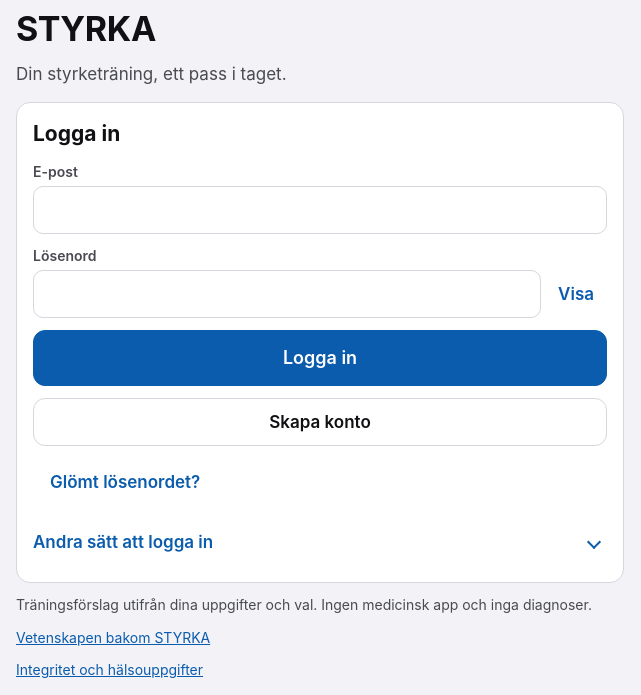
Test: Independent review: expected auth resilience › does not redirect to email confirmation after the user has left signup
This screenshot has width=641, height=695.
Click the button "Skapa konto": (320, 422) [33,398,607,446]
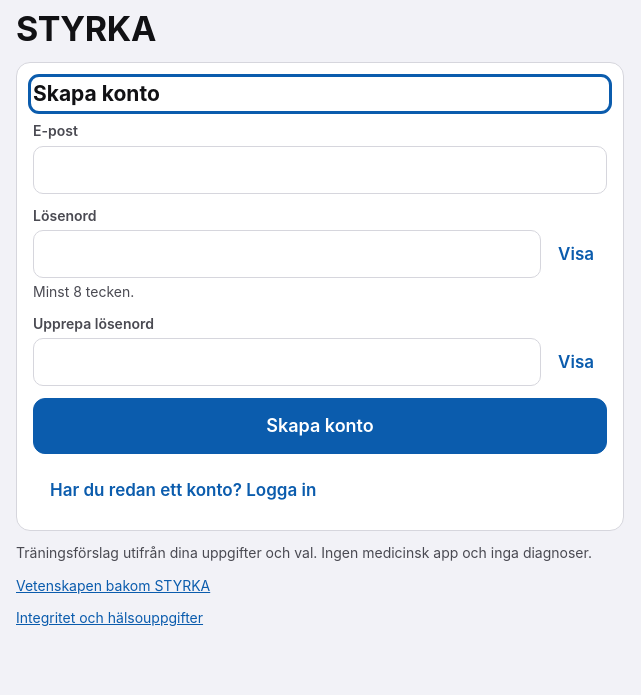
In the field labelled "E-post": (320, 170) [33,146,607,194], type "review@example.test"
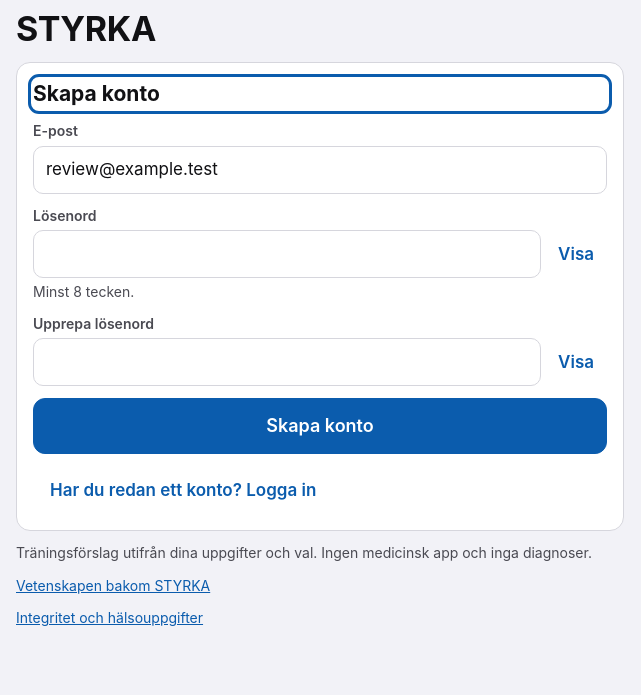
In the password field labelled "Lösenord": (287, 254) [33,230,541,278], type "synthetic-test-only"
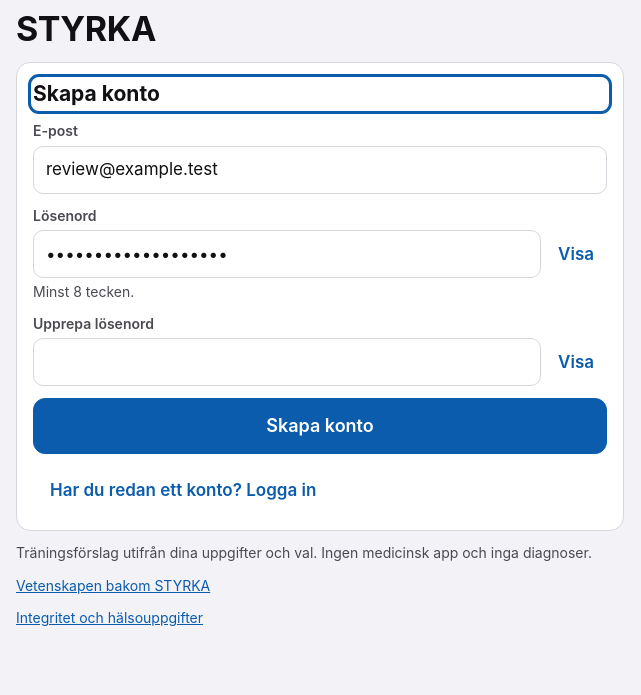
In the password field labelled "Upprepa lösenord": (287, 362) [33,338,541,386], type "synthetic-test-only"
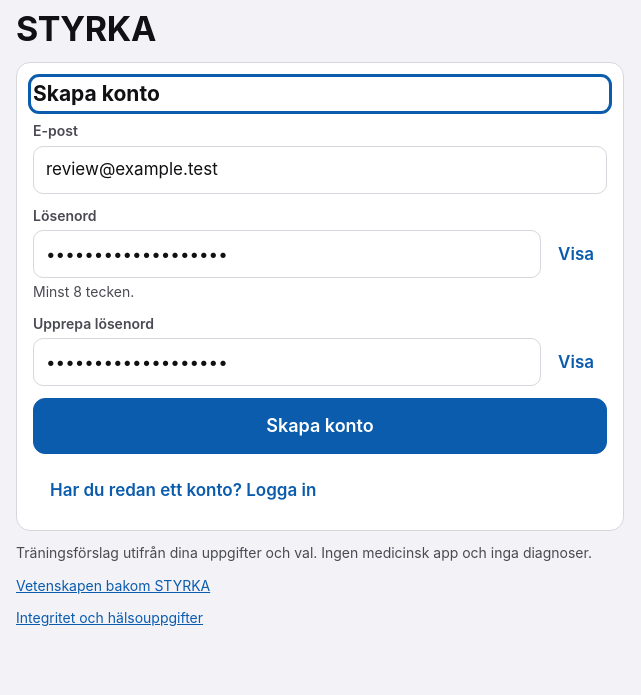
Click the button "Skapa konto": (320, 426) [33,398,607,454]
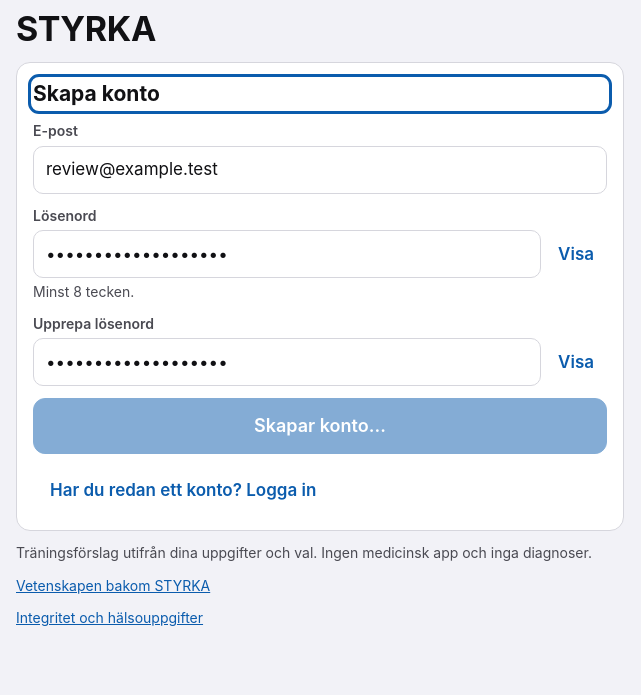
Click the button "Har du redan ett konto? Logga in": (183, 490) [33,466,333,514]
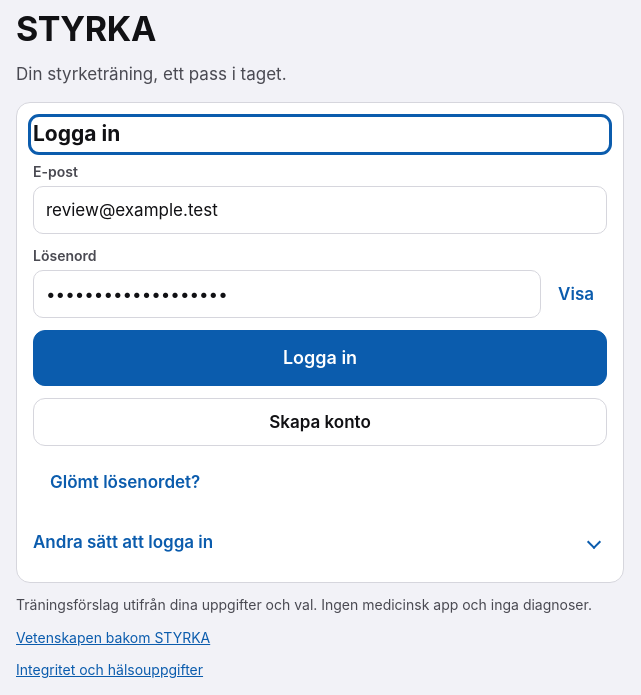
expect the heading "Logga in" is shown: met, box [33,121,120,146]
